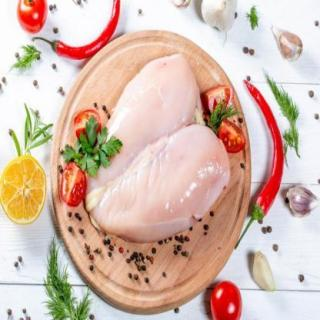Ayam: (89, 57, 232, 244)
